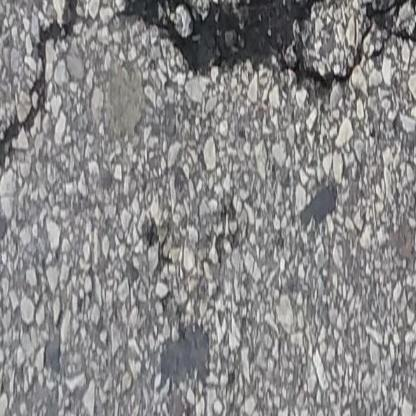Cracks: (102, 0, 358, 88), (0, 0, 88, 155)
